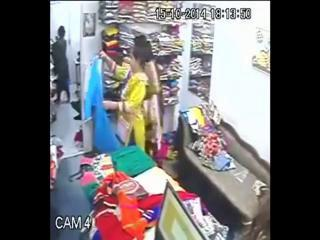Normal: (100, 31, 160, 153)
